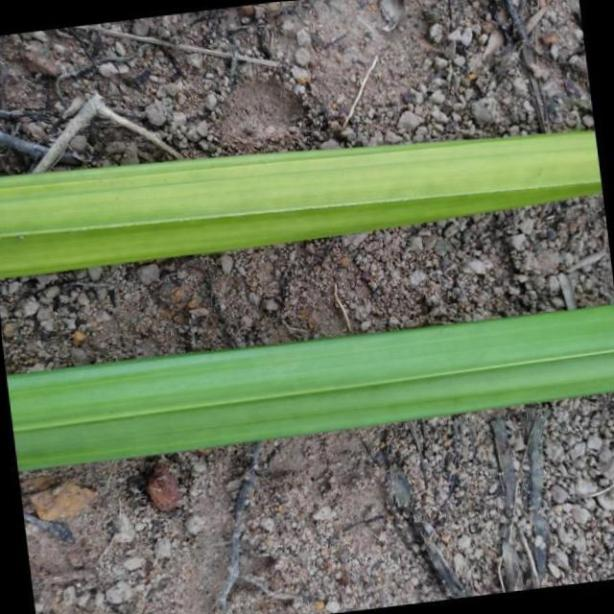nitrogen: (5, 304, 614, 473), (0, 128, 614, 281)
